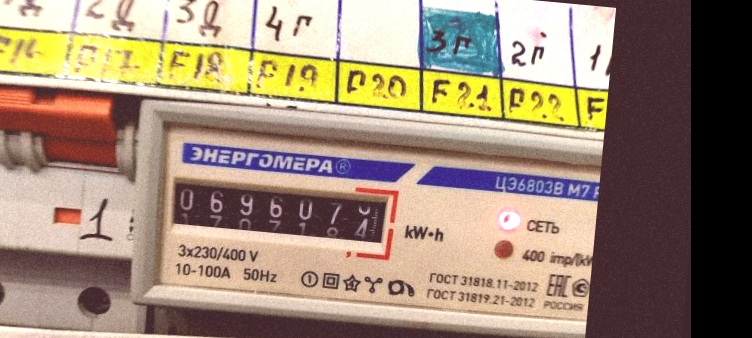0: (176, 185, 195, 211), (295, 195, 313, 221)
4: (351, 215, 369, 240)
6: (206, 188, 225, 214), (266, 193, 285, 218)
7: (325, 199, 342, 227)
9: (236, 191, 254, 216)
screen: (154, 162, 402, 258)
